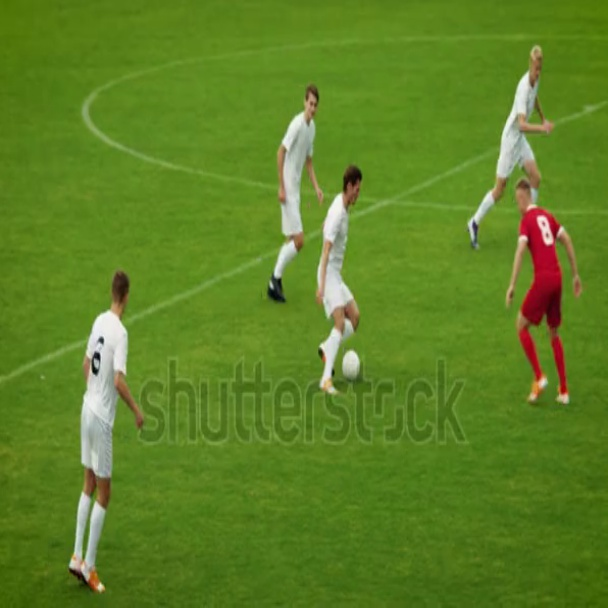ball: (345, 347, 360, 381)
